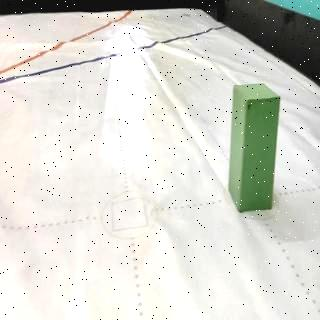greenbox: (228, 82, 281, 215)
